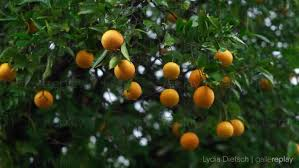orange: (100, 26, 124, 53), (191, 84, 216, 109), (113, 59, 139, 81), (157, 87, 181, 109), (30, 90, 55, 111), (123, 80, 146, 101), (179, 130, 201, 151), (213, 45, 233, 68), (73, 49, 95, 69), (161, 61, 180, 81), (215, 120, 234, 139), (229, 117, 246, 137), (1, 61, 17, 81)
